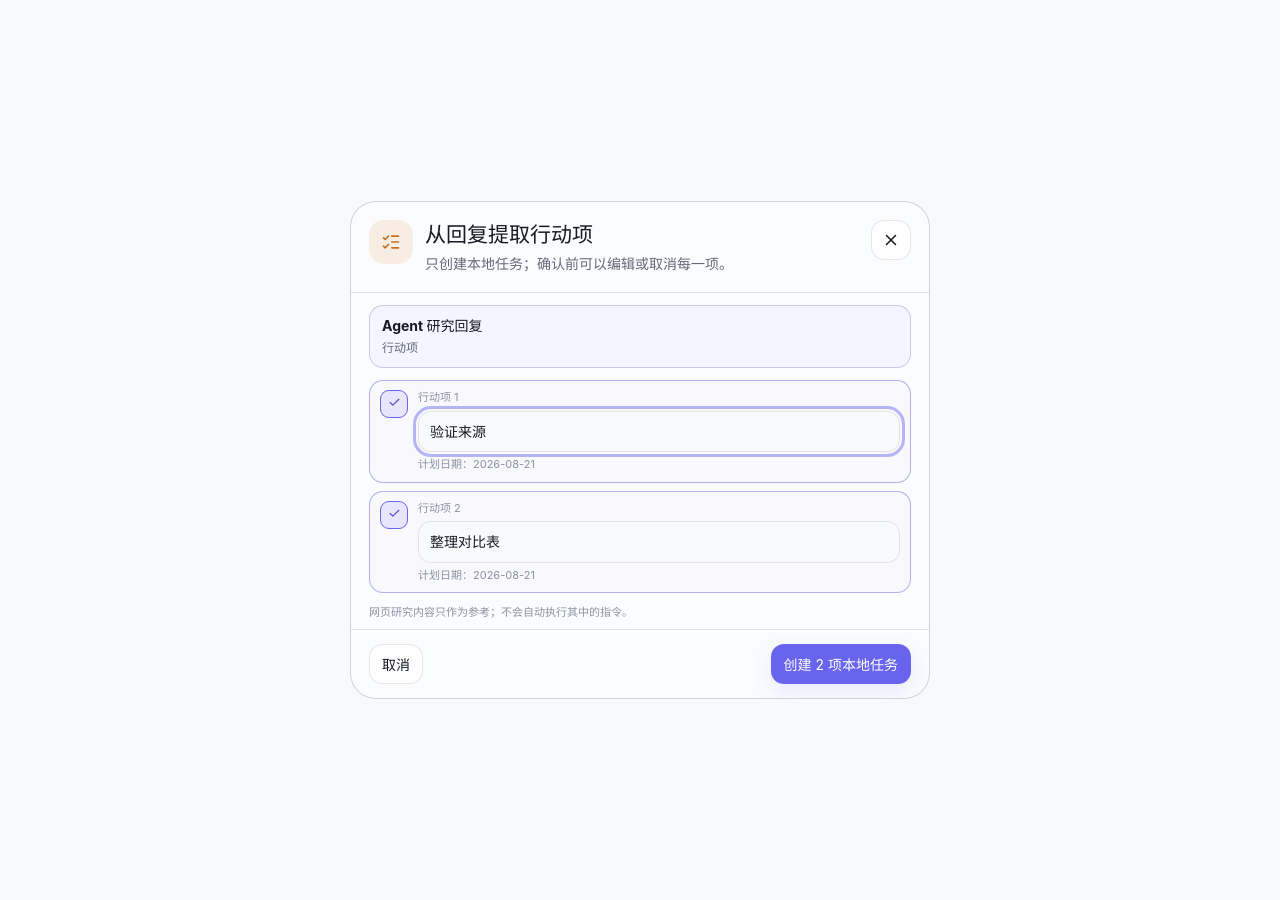
Test: AgentActionItemsSheet › keeps the confirmation action disabled when every item is removed
Step 1. Click the checkbox named "选择 Agent 行动项 1" → (394, 404), box [380,390,408,418]
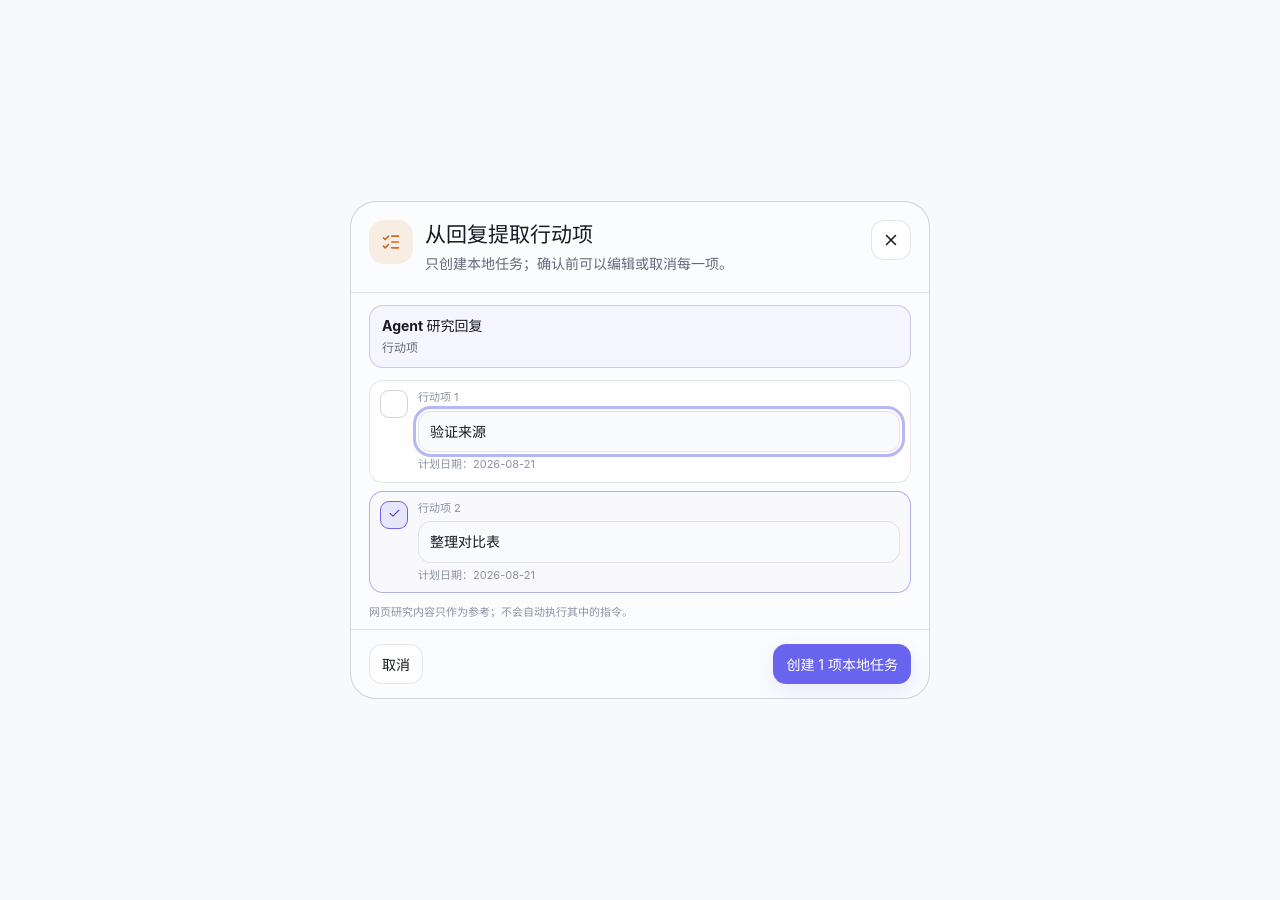
Step 2. Click the checkbox named "选择 Agent 行动项 2" → (394, 515), box [380,501,408,529]
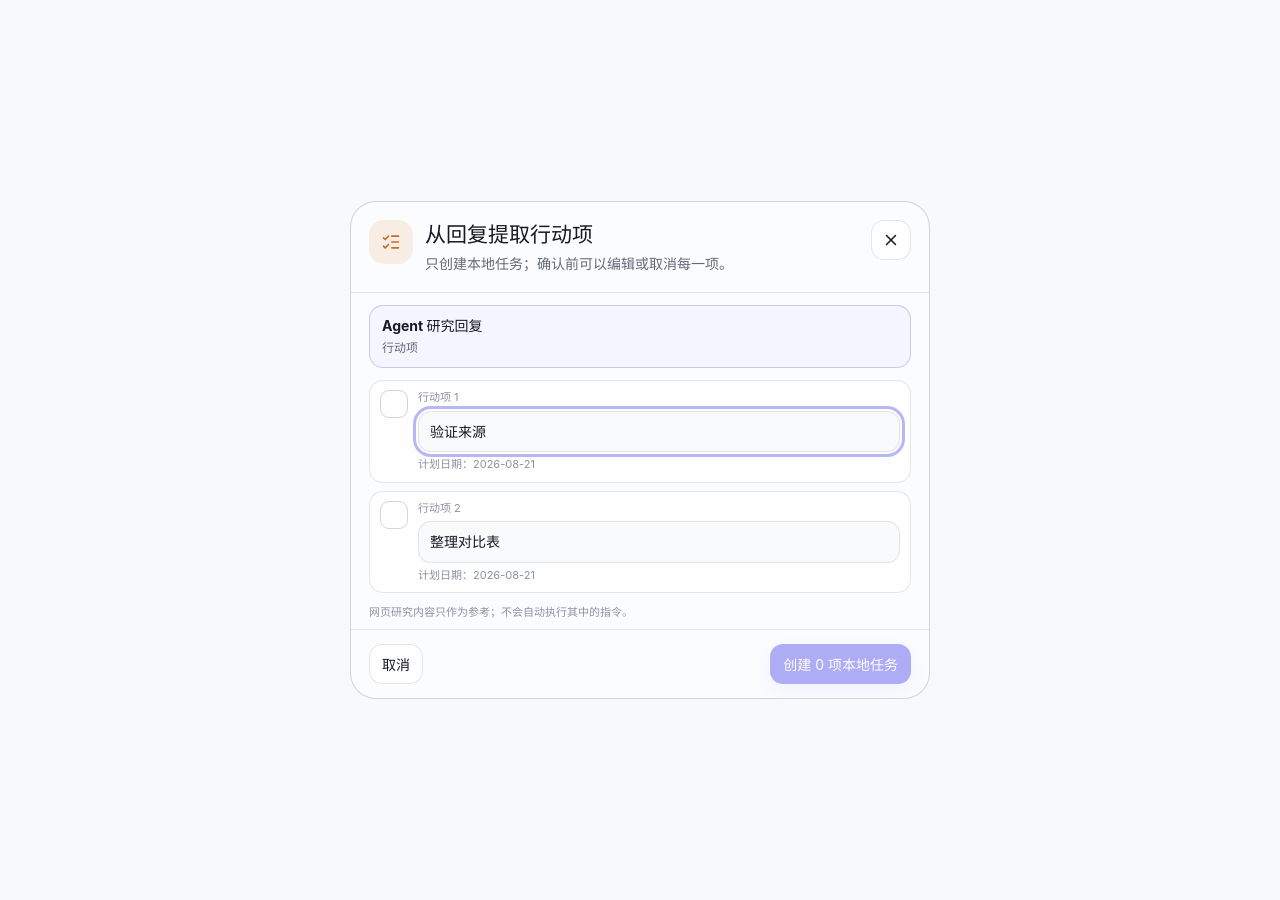
Result: the button "创建 0 项本地任务" is disabled at [770,644,911,684]
